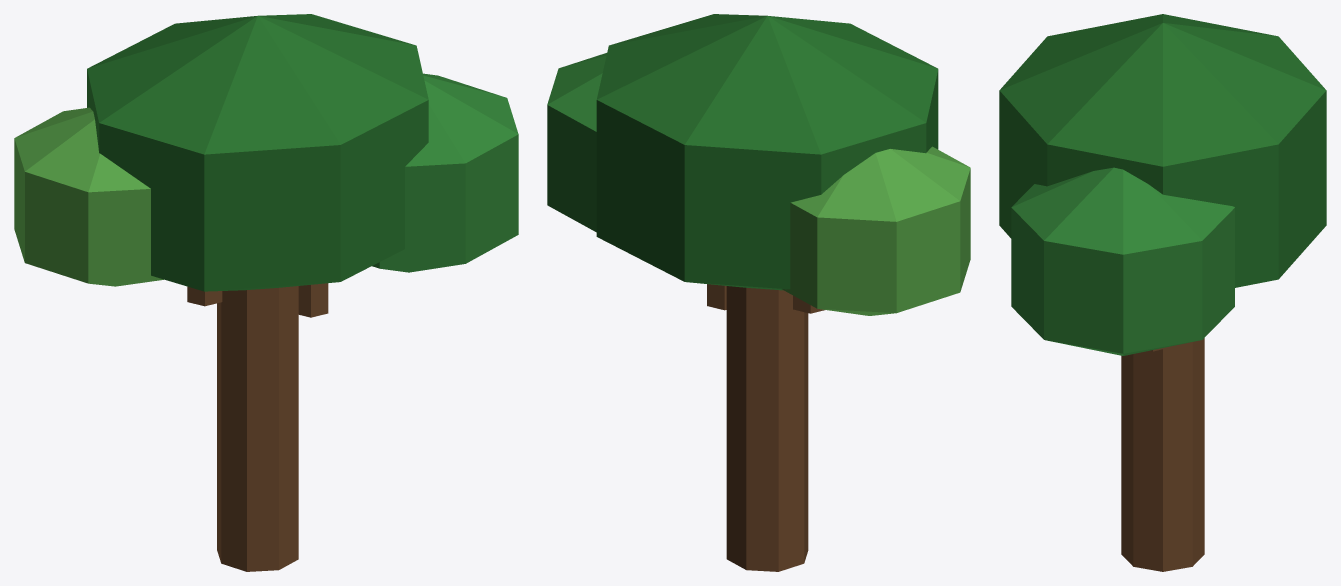
Rendered from mango_tropical.obj.
3 renders of one model, left to right at view 1: azimuth 30°, elevation 25°; view 2: azimuth 150°, elevation 25°; view 3: azimuth 270°, elevation 25°, orthographic.
Parts seen in each view (by area): view 1: canopy_a, trunk, canopy_c, canopy_b, branch; view 2: canopy_a, canopy_c, trunk, canopy_b, branch; view 3: canopy_a, canopy_b, trunk.
Boxes of the visible parts, x1=… form: canopy_a: x1=87, y1=14, x2=428, y2=291; trunk: x1=217, y1=286, x2=298, y2=571; canopy_c: x1=14, y1=107, x2=163, y2=286; canopy_b: x1=372, y1=73, x2=518, y2=272; branch: x1=187, y1=283, x2=328, y2=317; canopy_a: x1=596, y1=14, x2=938, y2=290; canopy_c: x1=782, y1=146, x2=970, y2=315; trunk: x1=726, y1=286, x2=808, y2=571; canopy_b: x1=547, y1=53, x2=606, y2=232; branch: x1=707, y1=284, x2=824, y2=313; canopy_a: x1=999, y1=14, x2=1326, y2=287; canopy_b: x1=1011, y1=167, x2=1234, y2=355; trunk: x1=1121, y1=338, x2=1204, y2=571.
Bounding box in the file's own units: 5.06 × 5.9 × 3.29.
